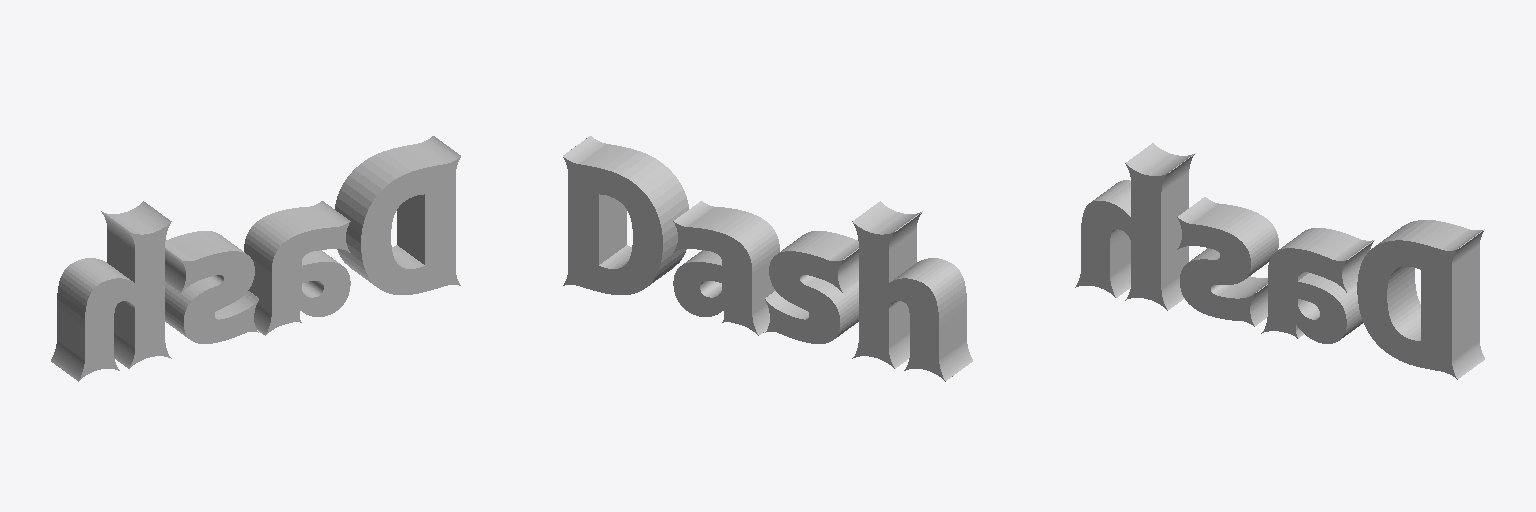
The model's file is Titletext2.obj.
The picture shows the model from 3 angles: view 1: azimuth 30°, elevation 25°; view 2: azimuth 150°, elevation 25°; view 3: azimuth 330°, elevation 25°; orthographic projection.
Visible parts, largest first — view 1: テキスト; view 2: テキスト; view 3: テキスト.
Boxes of the visible parts, <box> form: テキスト: <box>51,136,460,381</box>; テキスト: <box>563,136,972,381</box>; テキスト: <box>1075,143,1484,379</box>.
Bounding box in the file's own units: 1.59 × 0.5445 × 0.2.